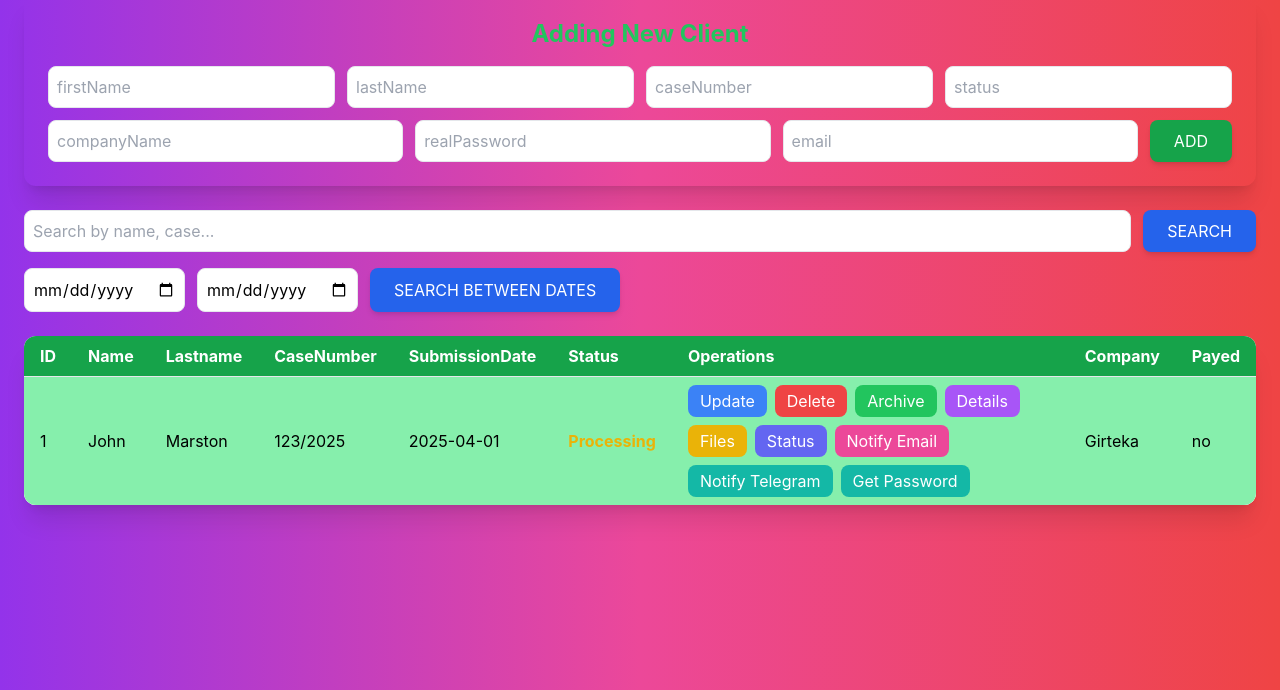
it: ActualClientsList - handleDelete, handleArchive ,handleUpdate, fetchClientDetails, updateClientNote › fetches and displays client details panel
This screenshot has width=1280, height=690.
Expected: the text "John" is shown, [72, 376, 150, 505]
Click the button "Details": [982, 401] box [944, 385, 1020, 417]
(page scrolled)
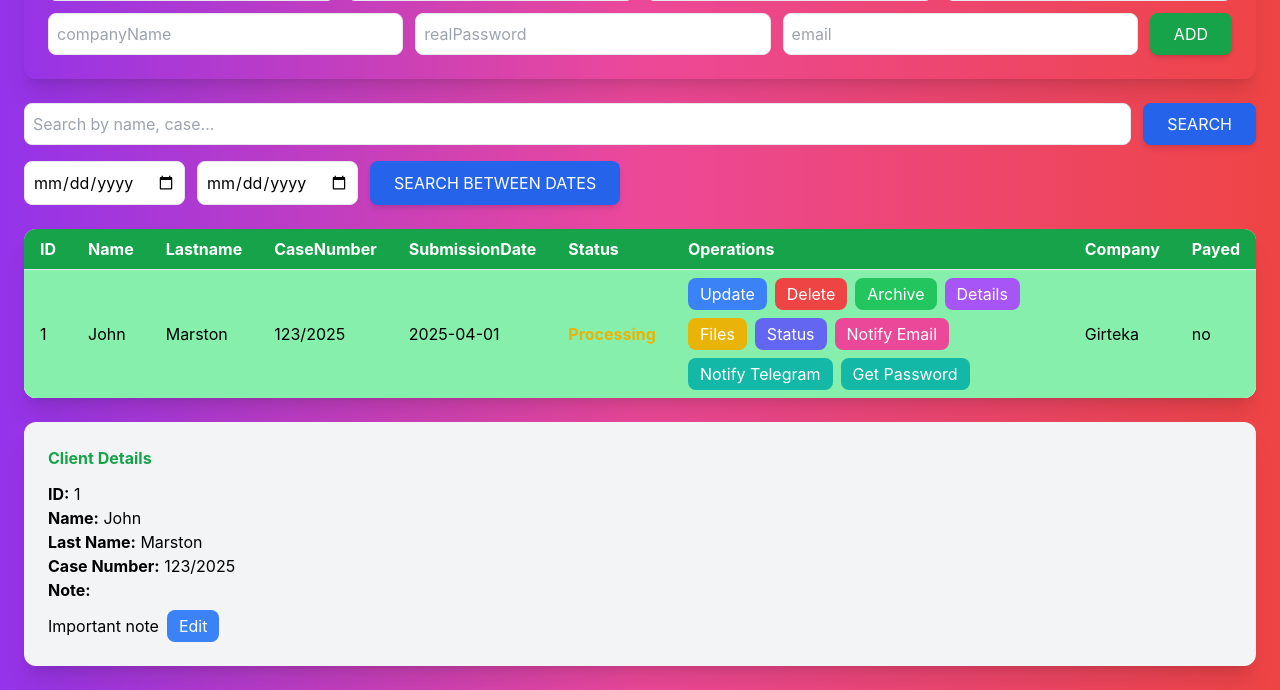
Expected: the heading "Client Details" is shown, [48, 448, 152, 468]
Expected: the text "Name:" is shown, [48, 508, 99, 528]
Expected: the text "Last Name:" is shown, [48, 532, 136, 552]
